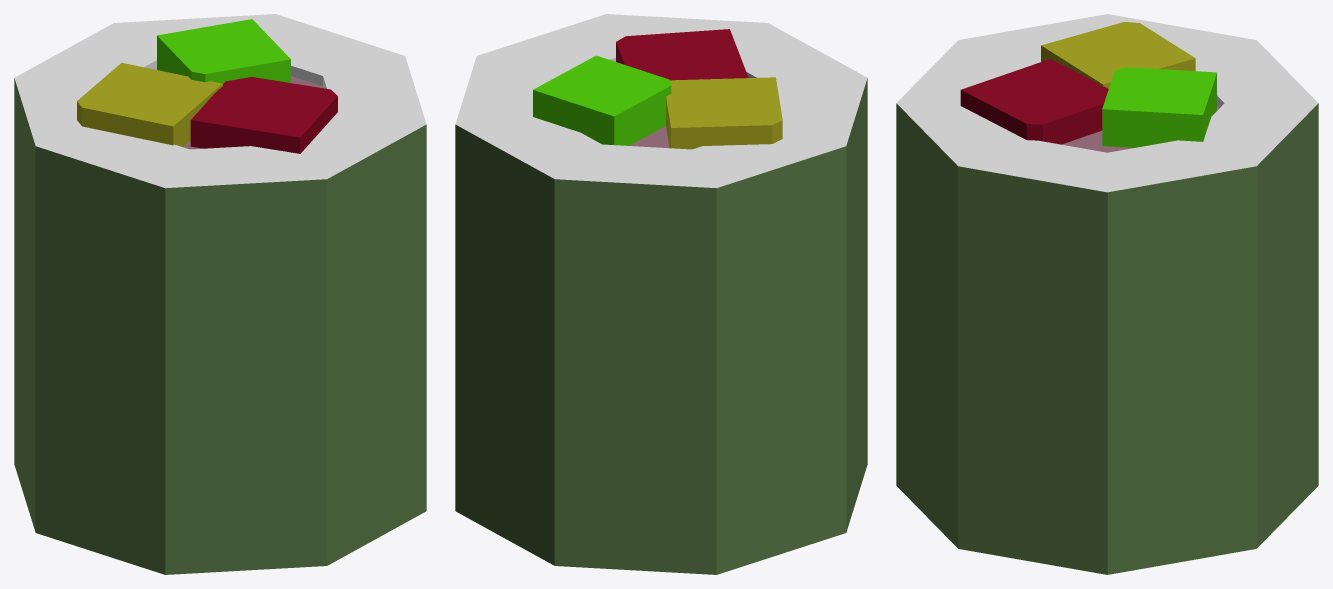
Rendered from SushiRoll3.fbx.
3 renders of one model, left to right at view 1: azimuth 30°, elevation 25°; view 2: azimuth 150°, elevation 25°; view 3: azimuth 270°, elevation 25°, orthographic.
Parts seen in each view (by area): view 1: SushiRoll, Meat2, Meat3, Meat1; view 2: SushiRoll, Meat1, Meat3, Meat2; view 3: SushiRoll, Meat2, Meat1, Meat3.
Boxes of the visible parts, box(x1,y1,x2,y2) form: SushiRoll: box(14, 14, 426, 574); Meat2: box(190, 77, 337, 153); Meat3: box(77, 63, 222, 146); Meat1: box(157, 19, 290, 83); SushiRoll: box(455, 14, 867, 574); Meat1: box(533, 55, 671, 145); Meat3: box(666, 77, 782, 149); Meat2: box(616, 29, 748, 80); SushiRoll: box(896, 14, 1318, 574); Meat2: box(960, 59, 1108, 144); Meat1: box(1102, 67, 1216, 147); Meat3: box(1041, 22, 1195, 88).
Size of the model in its own units: 7.3 by 7.82 by 7.3.
